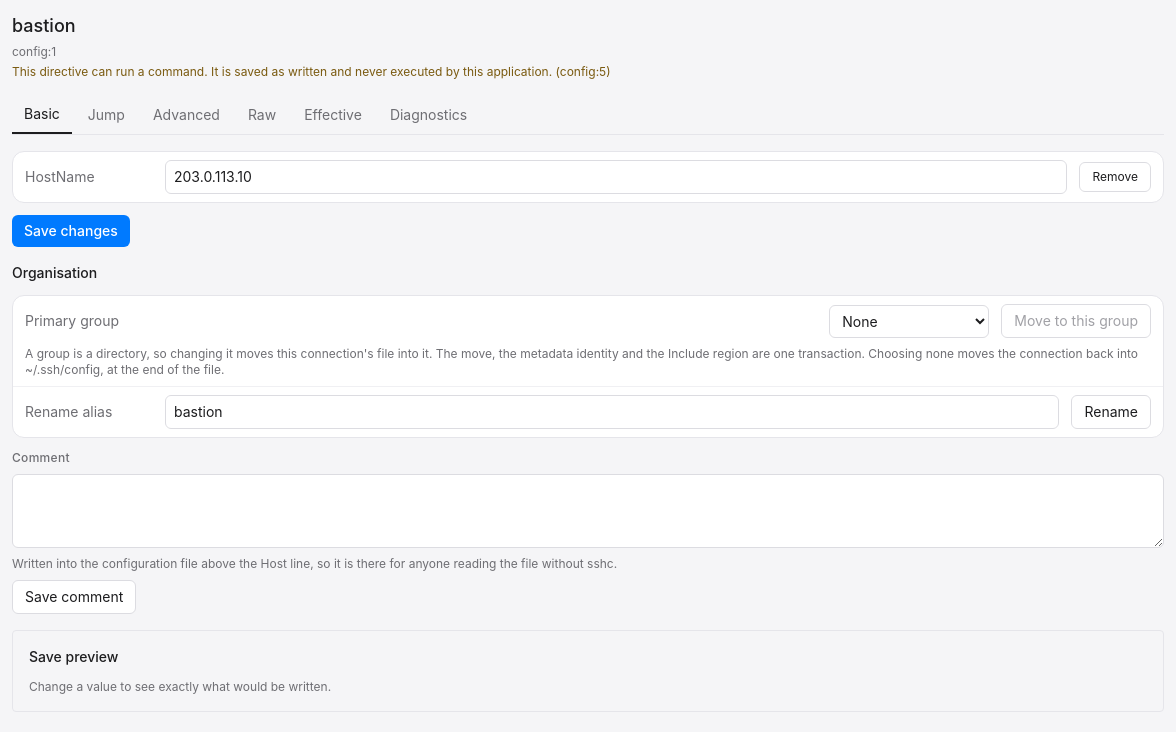
Scenario: HostDetailPanel › sends the Effective tab to the authoritative check rather than describing it
The image size is (1176, 732).
Click the tab "Effective".
click(333, 115)  # box [292,96,374,134]
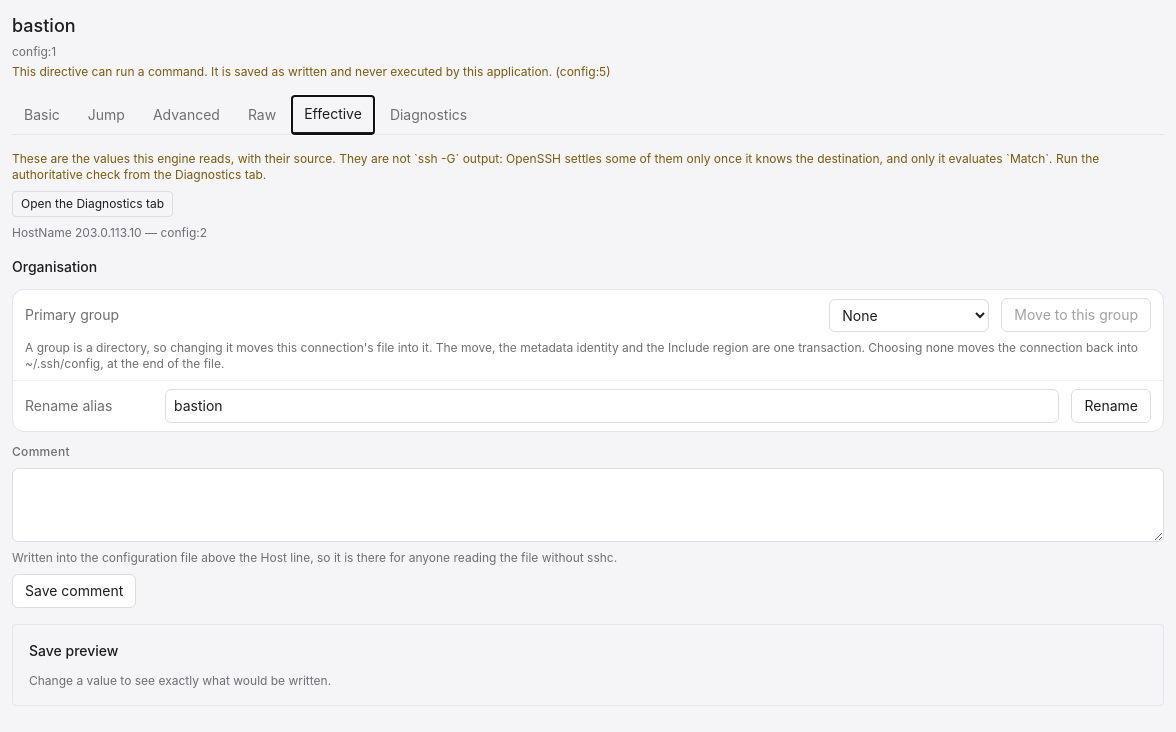
Click the button "Open the Diagnostics tab".
click(93, 204)  # box [12,191,173,217]
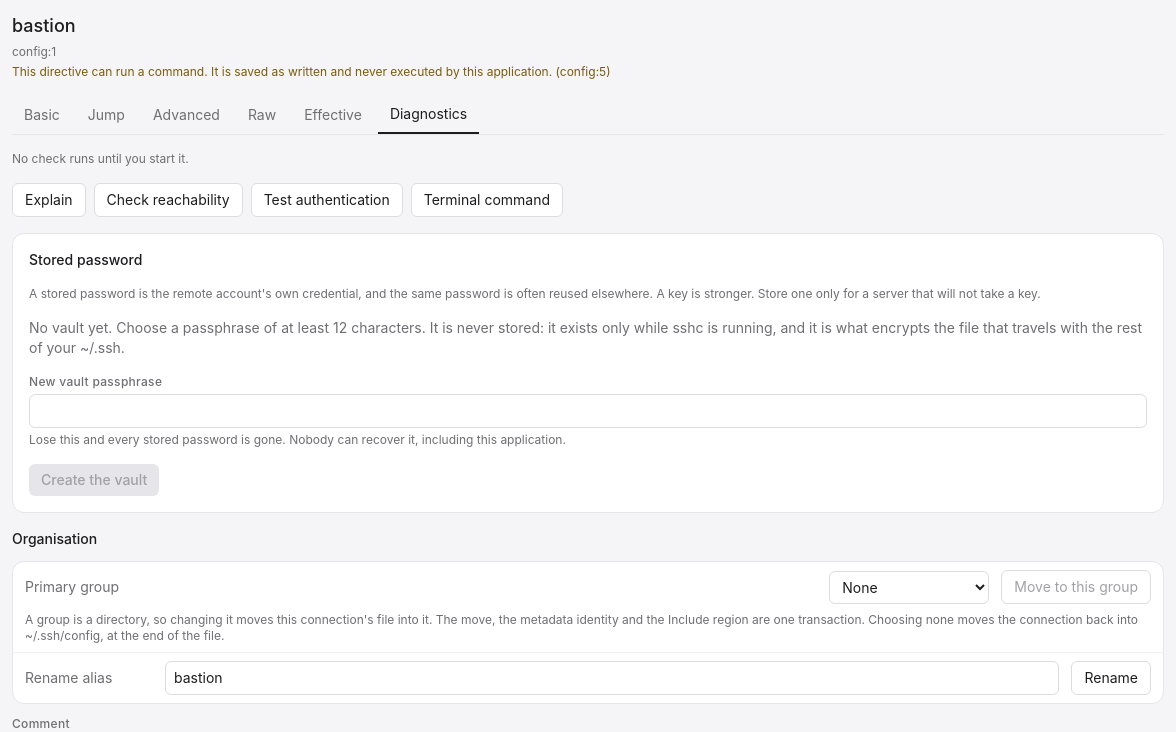
Check: the element named "Diagnostics for bastion" is shown, box [12,151,563,217]
